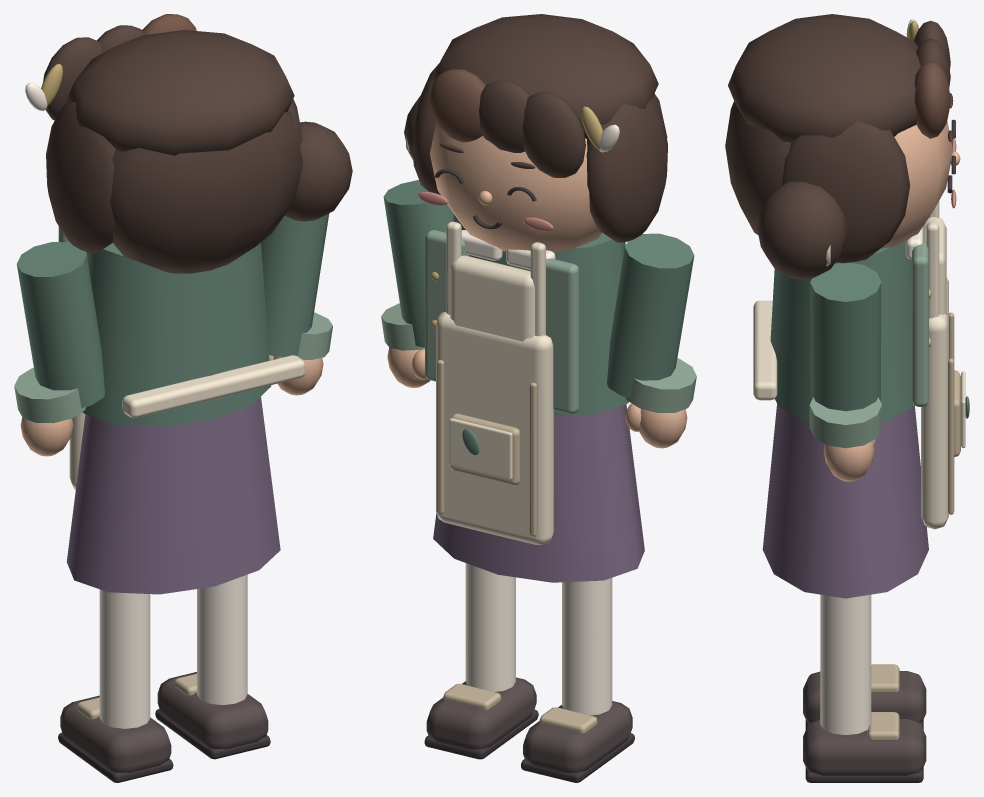
File: misaki-smile-v1.glb
The picture shows the model from 3 angles, left to right: view 1: azimuth 30°, elevation 25°; view 2: azimuth 150°, elevation 25°; view 3: azimuth 270°, elevation 25°; orthographic projection.
Visible parts, largest first — view 1: head.hair.11, body.fabric.0, body.fabric.1, body.fabric.5, arm-left.fabric.18, body.fabric.6, arm-right.fabric.21, body.fabric.3, arm-left.fabric.19, body.fabric.7, arm-left.skin.20, arm-right.fabric.22 (+3 smaller); view 2: head.hair.11, body.fabric.3, body.fabric.0, body.fabric.5, head.skin.10, arm-left.fabric.18, body.fabric.6, body.fabric.1, body.fabric.2, body.fabric.4, arm-right.fabric.21, head.hair.13 (+7 smaller); view 3: head.hair.11, body.fabric.0, body.fabric.1, arm-right.fabric.21, body.fabric.3, body.fabric.6, body.fabric.5, head.skin.10, body.fabric.4, body.fabric.2, arm-right.fabric.22, head.hair.13 (+2 smaller).
Part boxes in pixels (x1,y1,x2,y2): head.hair.11: (43, 25, 352, 273); body.fabric.0: (66, 397, 280, 594); body.fabric.1: (83, 242, 271, 426); body.fabric.5: (99, 574, 247, 728); arm-left.fabric.18: (16, 242, 104, 407); body.fabric.6: (60, 672, 268, 772); arm-right.fabric.21: (261, 213, 329, 356); body.fabric.3: (69, 355, 305, 489); arm-left.fabric.19: (14, 367, 86, 423); body.fabric.7: (58, 709, 270, 782); arm-left.skin.20: (20, 417, 73, 456); arm-right.fabric.22: (280, 312, 332, 359); head.hair.11: (404, 14, 667, 242); body.fabric.3: (436, 221, 553, 544); body.fabric.0: (433, 404, 644, 582); body.fabric.5: (461, 230, 612, 715); head.skin.10: (429, 123, 601, 251); arm-left.fabric.18: (607, 233, 694, 397); body.fabric.6: (426, 677, 632, 772); body.fabric.1: (453, 214, 628, 455); body.fabric.2: (425, 230, 579, 413); body.fabric.4: (437, 360, 597, 733); arm-right.fabric.21: (383, 180, 453, 347); head.hair.13: (429, 69, 485, 142); head.hair.11: (725, 14, 953, 279); body.fabric.0: (762, 404, 928, 598); body.fabric.1: (770, 241, 969, 422); arm-right.fabric.21: (810, 262, 881, 411); body.fabric.3: (753, 201, 965, 529); body.fabric.6: (803, 671, 926, 775); body.fabric.5: (820, 226, 923, 734); head.skin.10: (881, 121, 960, 248); body.fabric.4: (867, 312, 960, 740); body.fabric.2: (912, 241, 928, 406); arm-right.fabric.22: (809, 397, 881, 448); head.hair.13: (914, 61, 950, 138).
Size of the model in its own units: 0.6676 by 1.47 by 0.456.
